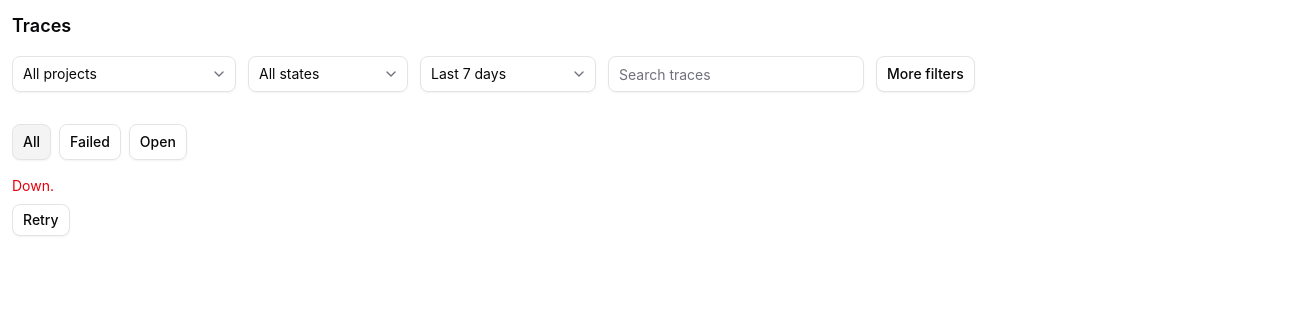
Scenario: TracesScreen › offers Retry after an error and reads the page again
Expected: the text "Down." is shown, x1=12 y1=176 x2=54 y2=196
Click the button "Retry".
click(41, 220)  # box x1=12 y1=204 x2=70 y2=236
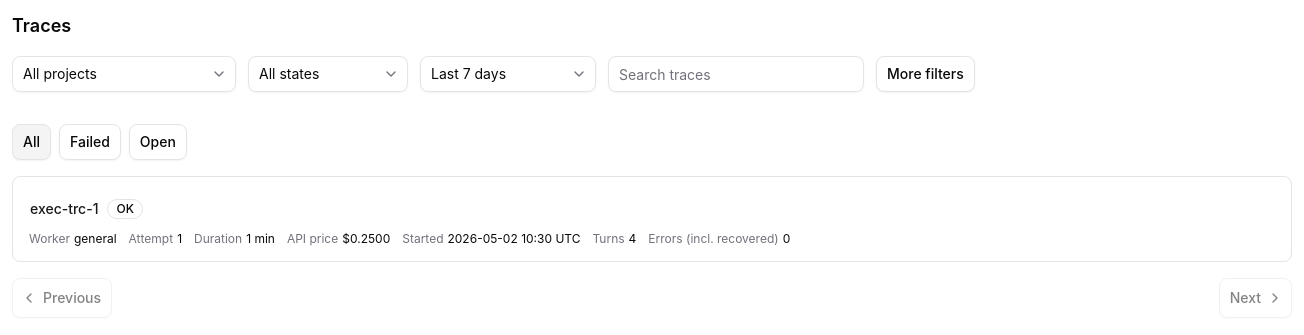
Expected: the text "exec-trc-1" is shown, x1=30 y1=199 x2=98 y2=219
